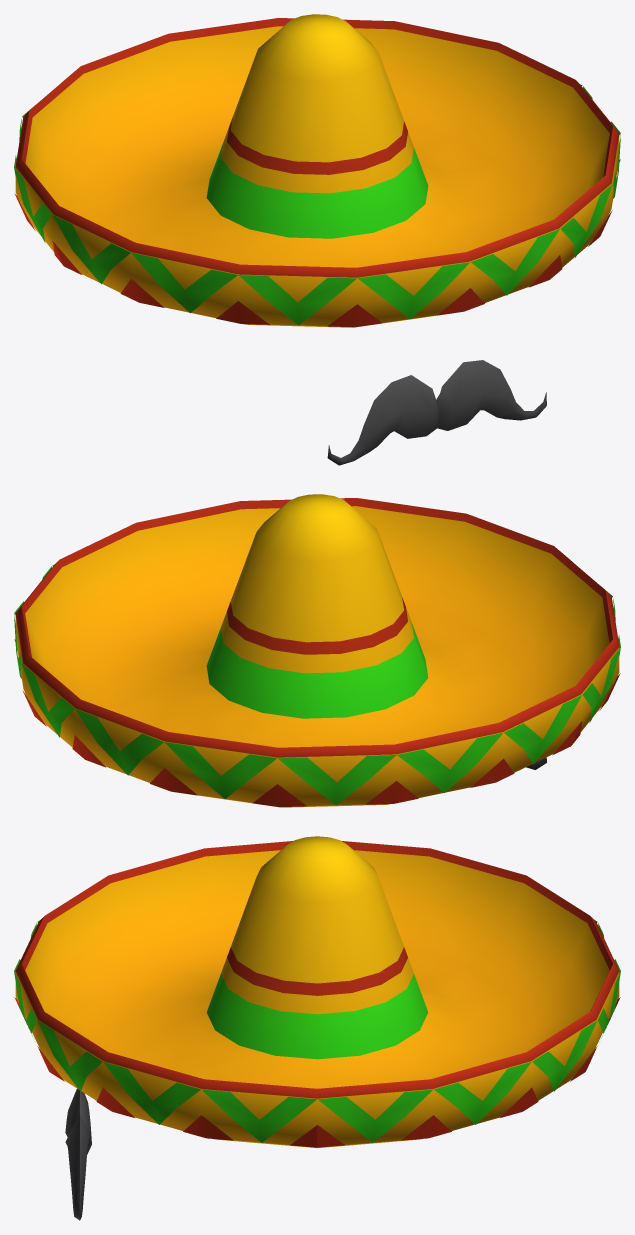
The model's file is Hat_Mexico.fbx.
3 views of the same model, one above another, from view 1: azimuth 30°, elevation 25°; view 2: azimuth 150°, elevation 25°; view 3: azimuth 270°, elevation 25° (orthographic).
Parts seen in each view (by area): view 1: Hat_Mexico; view 2: Hat_Mexico; view 3: Hat_Mexico.
Part boxes in pixels (left/top/right/bottom): Hat_Mexico: left=14, top=14, right=620, bottom=465; Hat_Mexico: left=14, top=494, right=620, bottom=807; Hat_Mexico: left=14, top=836, right=620, bottom=1220.
Size of the model in its own units: 238 by 142 by 238.
